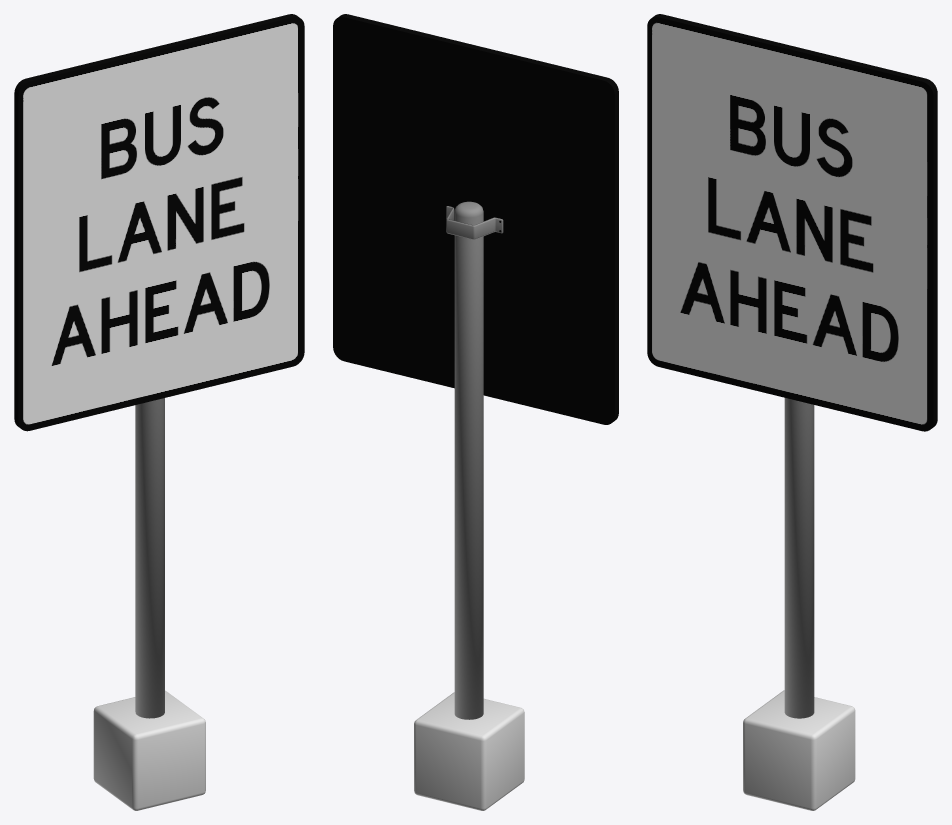
The model's file is Sign 007.fbx.
3 renders of one model, left to right at view 1: azimuth 30°, elevation 25°; view 2: azimuth 150°, elevation 25°; view 3: azimuth 330°, elevation 25°, orthographic.
Parts seen in each view (by area): view 1: Cube.140, Cube.145, Cylinder.150; view 2: Cube.140, Cylinder.150, Cube.145, Plane.023; view 3: Cube.140, Cube.145, Cylinder.150.
Boxes of the visible parts, left/top/right/bottom form: Cube.140: left=14, top=14, right=304, bottom=431; Cube.145: left=93, top=690, right=205, bottom=810; Cylinder.150: left=135, top=398, right=164, bottom=718; Cube.140: left=333, top=14, right=618, bottom=424; Cylinder.150: left=454, top=201, right=483, bottom=719; Cube.145: left=414, top=692, right=524, bottom=810; Plane.023: left=446, top=206, right=503, bottom=239; Cube.140: left=647, top=14, right=937, bottom=431; Cube.145: left=743, top=690, right=855, bottom=810; Cylinder.150: left=784, top=398, right=814, bottom=718.
Bounding box in the file's own units: 720 × 1795 × 184.
Materials: 4 (1 with a texture image).
